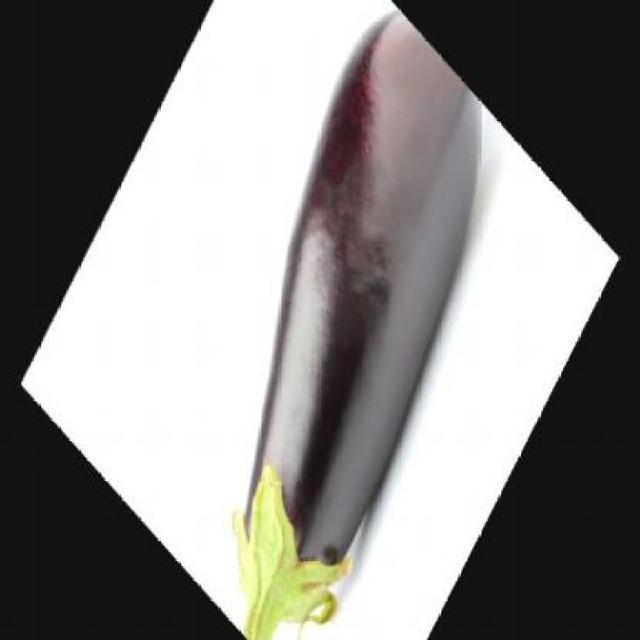eggplant: (227, 4, 488, 640)
